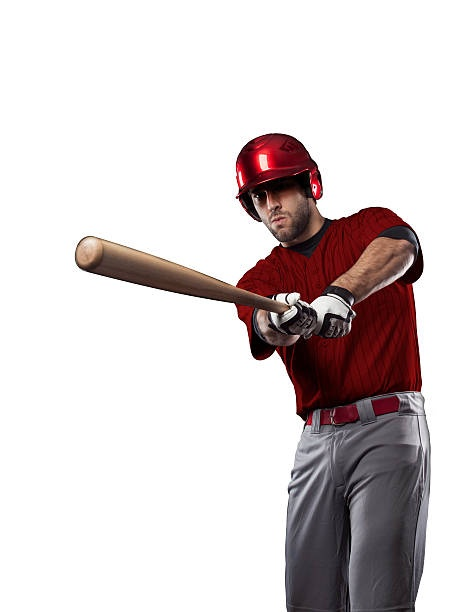bita: (75, 234, 352, 321)
